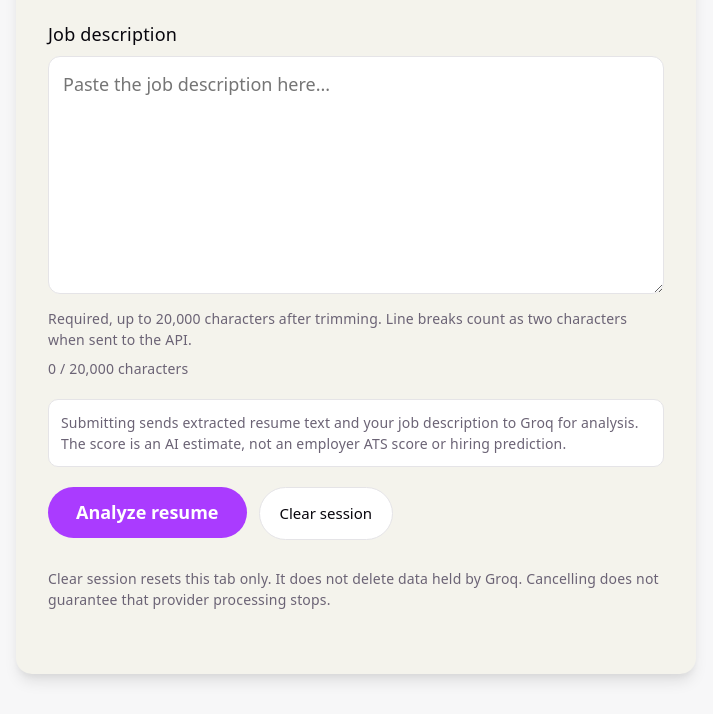
shows field errors and focuses an accessible file input without requesting
(page scrolled)
Click the button "Analyze resume" at (147, 512), box [48,487,246,538]
(page scrolled)
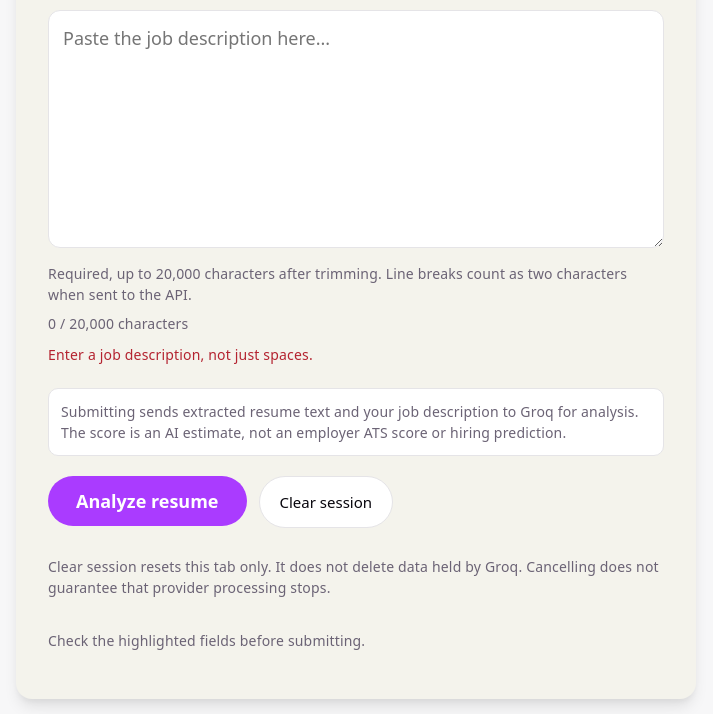
Expected: the text "Enter a job description, not just spaces." is shown, [48,344,313,364]
